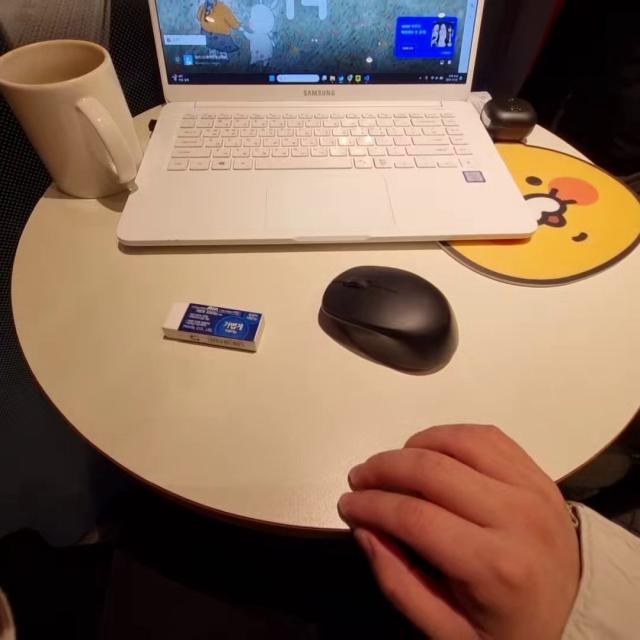eraser: (159, 296, 279, 361)
hand: (335, 424, 584, 640)
mouse: (308, 265, 492, 382)
